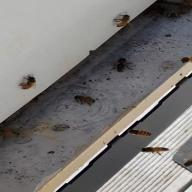Bee: (15, 71, 46, 93), (137, 142, 181, 155), (119, 126, 156, 138), (111, 13, 134, 30)
